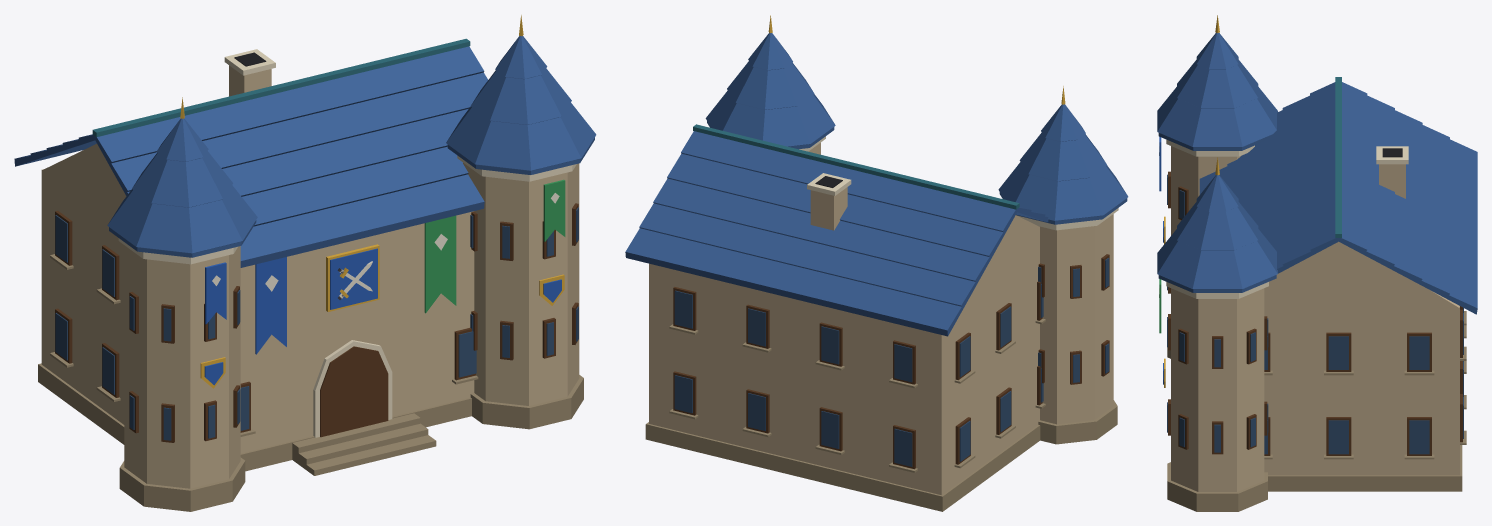
Rendered from Guild_Swordsman.fbx.
The picture shows the model from 3 angles, left to right: view 1: azimuth 30°, elevation 25°; view 2: azimuth 150°, elevation 25°; view 3: azimuth 270°, elevation 25°; orthographic projection. The views are drawn at different scales.
Parts seen in each view (by area): view 1: Guild_Swordsman; view 2: Guild_Swordsman; view 3: Guild_Swordsman.
Boxes of the visible parts, x1,y1,x2,y2 form: Guild_Swordsman: (14, 15, 596, 511); Guild_Swordsman: (625, 15, 1128, 511); Guild_Swordsman: (1157, 15, 1477, 511).
Bounding box in the file's own units: 13.59 × 10.97 × 9.52.
